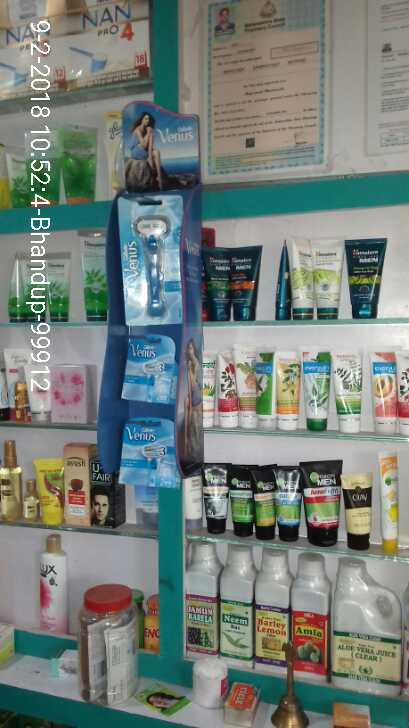venus: (107, 195, 186, 325), (111, 415, 178, 485), (114, 333, 178, 406)
